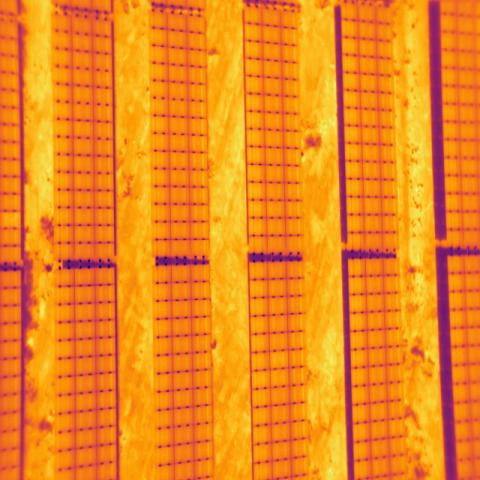fault: (1, 212, 21, 228)
